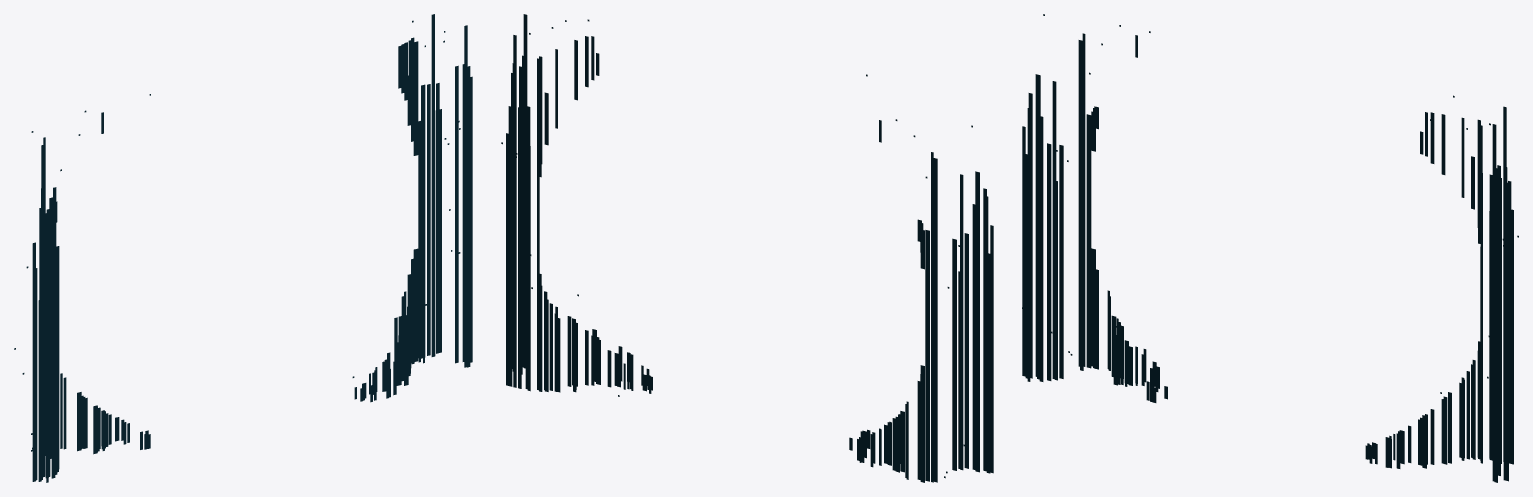
Rendered from portal_wall.glb.
The picture shows the model from 3 angles, left to right: view 1: azimuth 30°, elevation 25°; view 2: azimuth 150°, elevation 25°; view 3: azimuth 330°, elevation 25°; orthographic projection. The views are drawn at different scales.
Visible parts, largest first — view 1: wall_curtain; view 2: wall_curtain; view 3: wall_curtain.
Boxes of the visible parts, x1,y1,x2,y2 form: wall_curtain: (32,14,472,482); wall_curtain: (506,14,993,482); wall_curtain: (1022,33,1513,482).
Bounding box in the file's own units: 3.97 × 2.97 × 0.5252.
